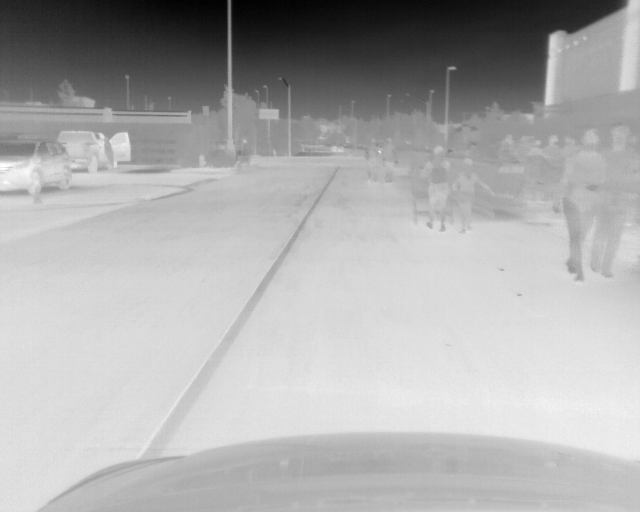car: (1, 136, 72, 194), (56, 128, 131, 169), (332, 144, 345, 153)
people: (592, 124, 640, 277), (563, 125, 605, 283), (454, 159, 493, 232), (420, 146, 451, 233), (515, 134, 542, 203), (540, 134, 562, 212), (380, 138, 398, 185), (365, 137, 380, 181), (497, 136, 517, 162), (103, 137, 115, 169)
